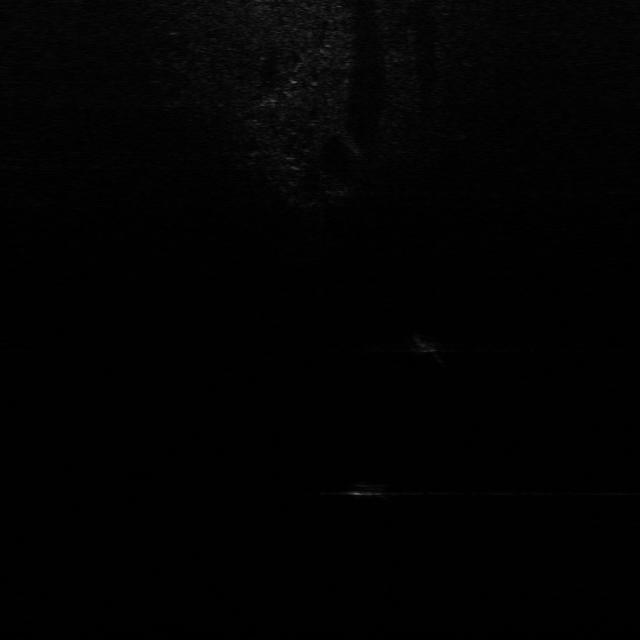cube: (344, 479, 390, 500)
square cage: (404, 331, 444, 356)
